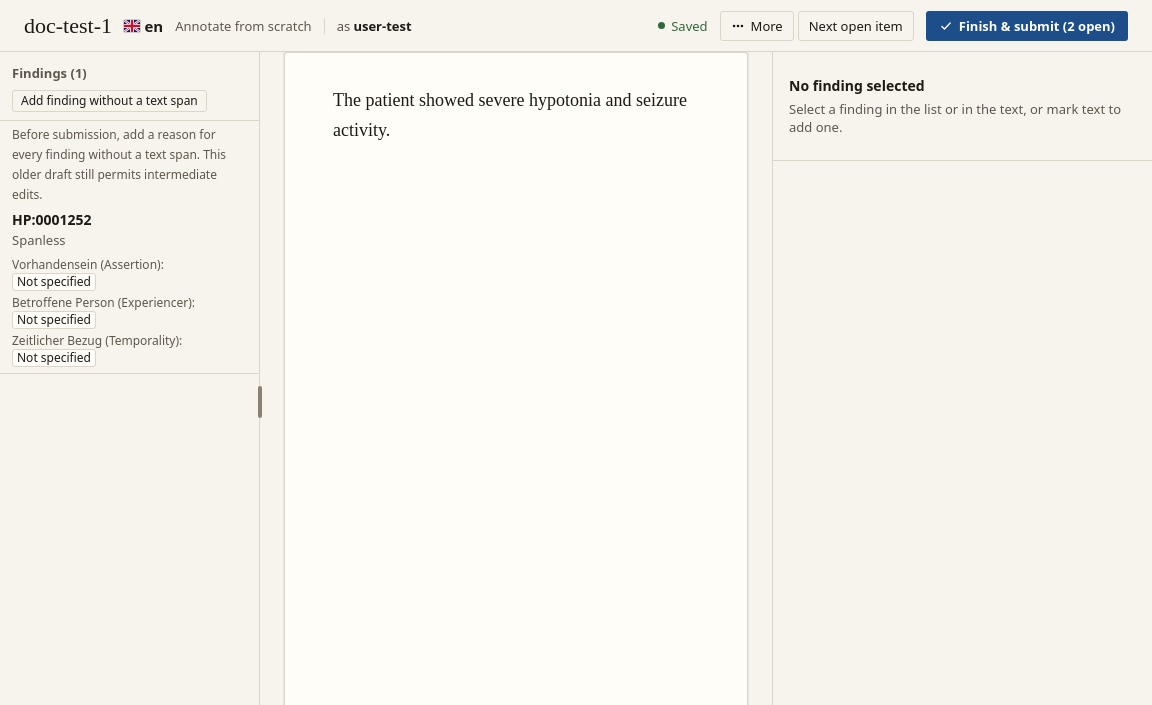
Test: CaseScreen integration › annotation note transport recovery › logout releases a failed note flush and retry saves the latest text after {}
Click the button that starts with "HP:0001252": click(130, 290) top-left (0, 205), bottom-right (259, 374)
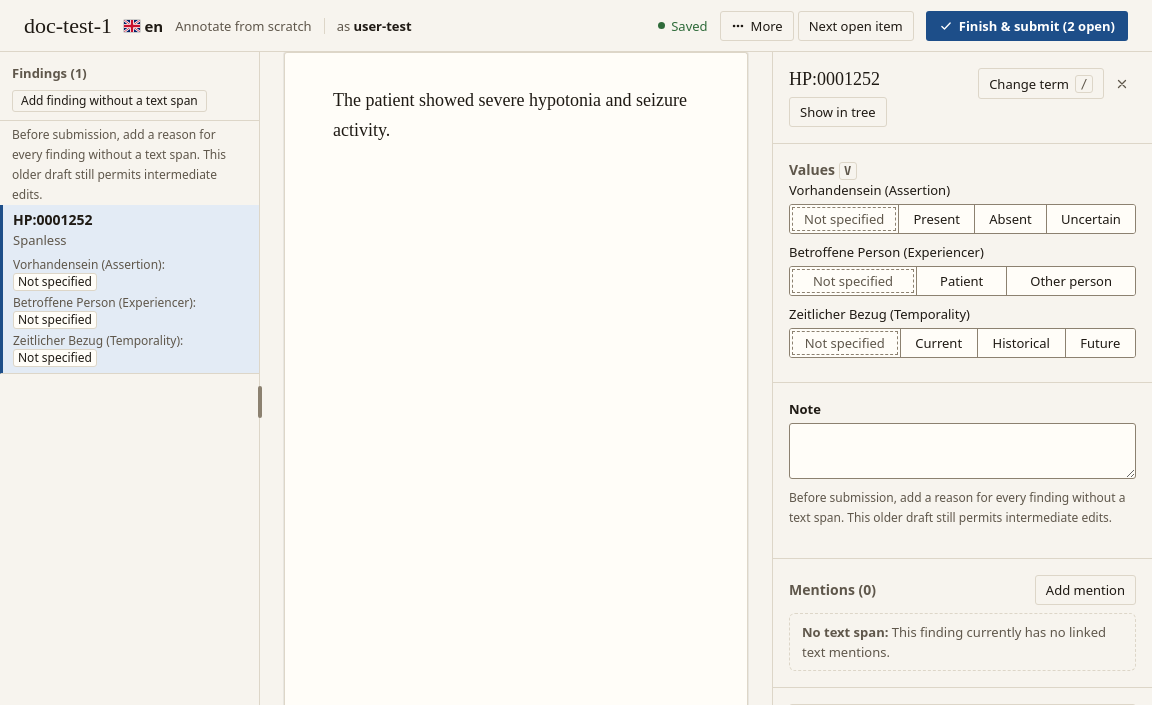
In the text box labelled "Note": (962, 451) top-left (789, 423), bottom-right (1136, 479), type "Retained transport note"
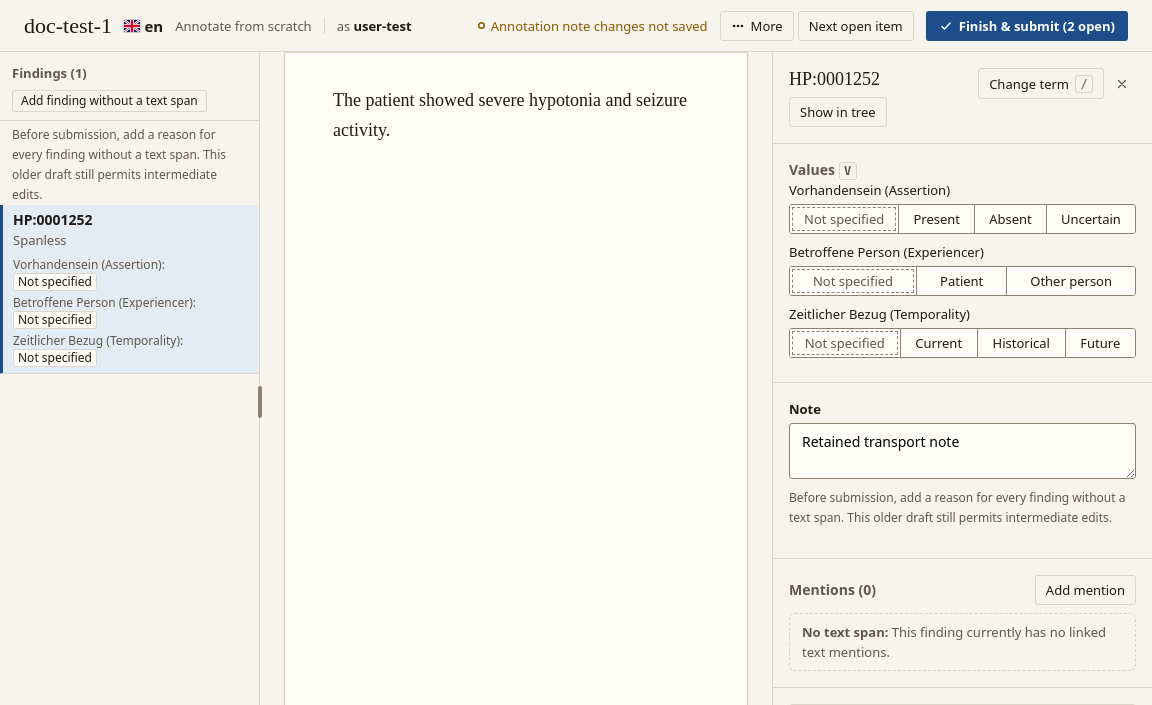
Leave the text box labelled "Note", box top-left (789, 423), bottom-right (1136, 479)
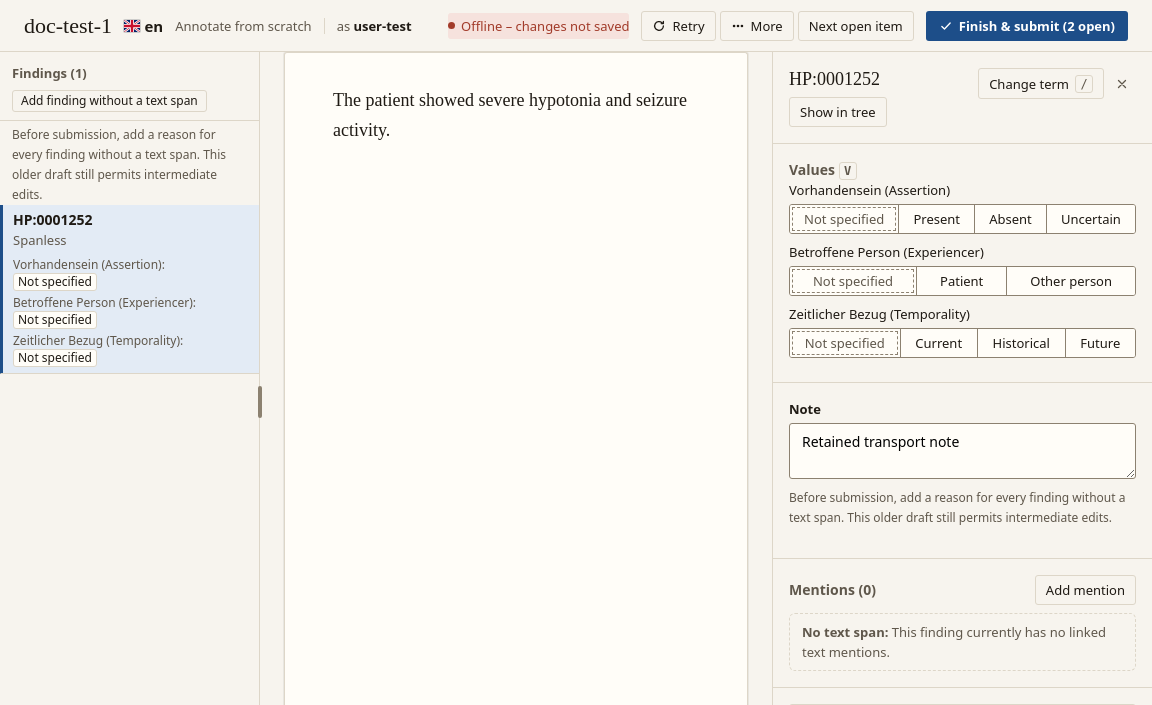
Check: the button "Retry" is shown, box top-left (642, 10), bottom-right (716, 40)
Replace the text in the text box labelled "Note" with "Latest local explanation": (962, 451) top-left (789, 423), bottom-right (1136, 479)
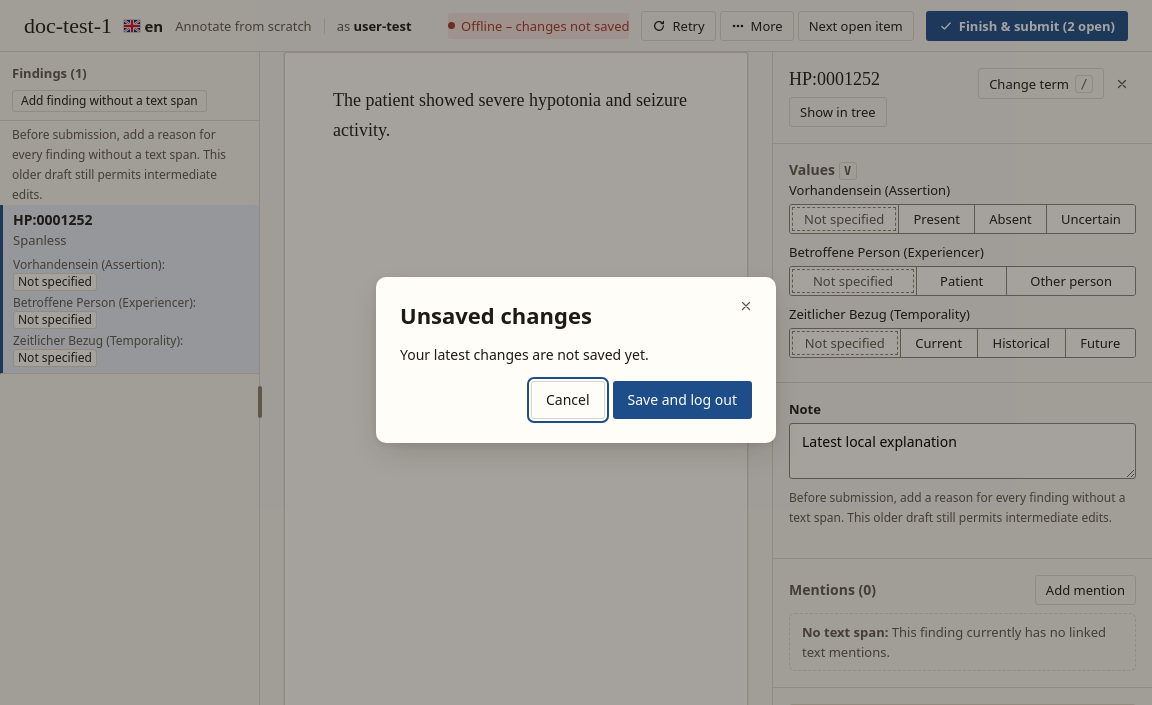
Click the button "Save and log out": click(682, 400) top-left (612, 381), bottom-right (752, 419)
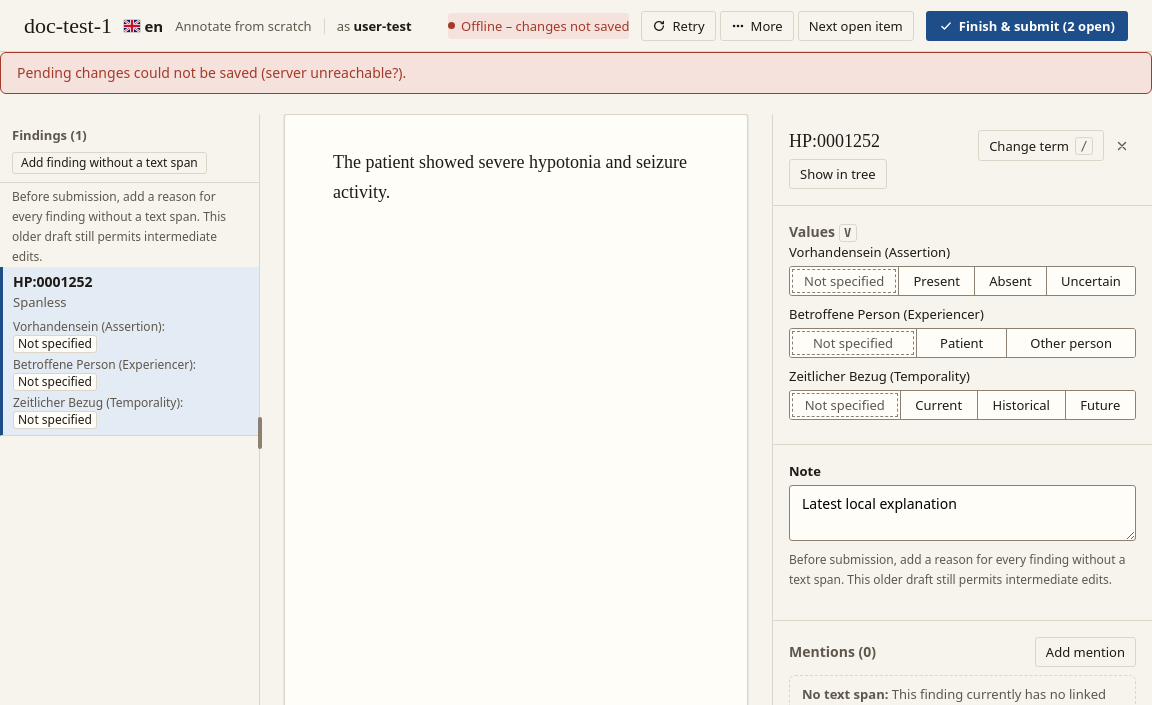
Check: the heading "Unsaved changes" is gone
Click the button "Retry": click(679, 26) top-left (642, 10), bottom-right (716, 40)
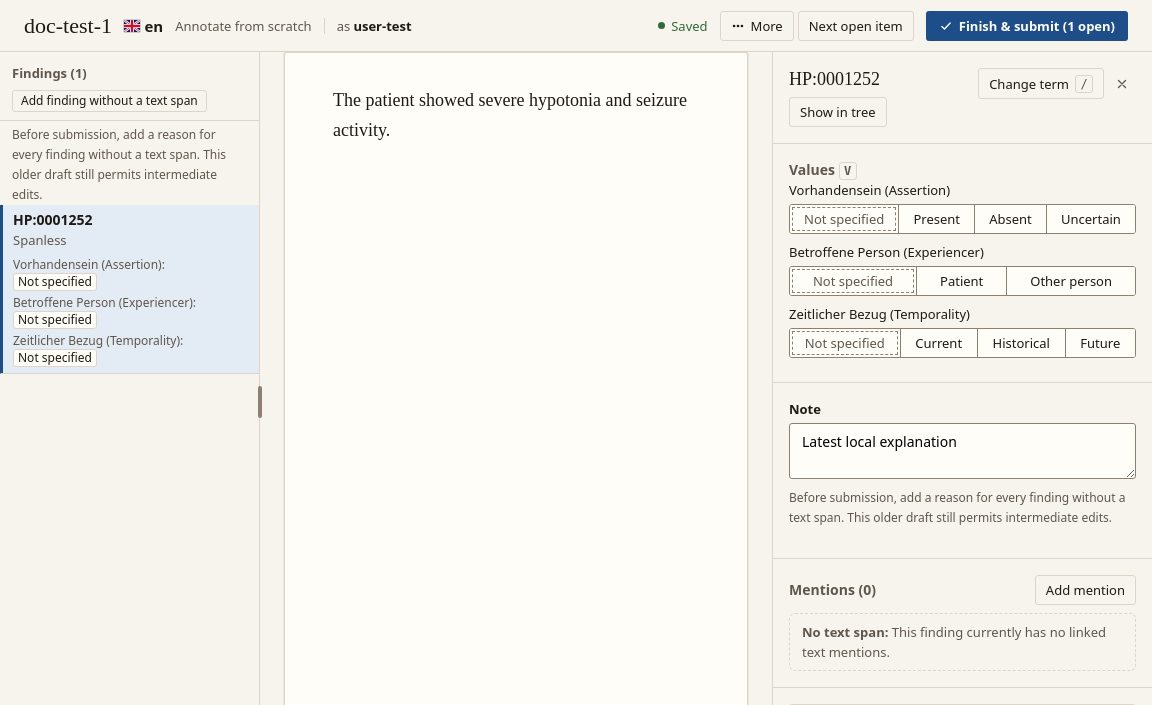
Check: the text "Saved" is shown, box top-left (671, 14), bottom-right (708, 36)
